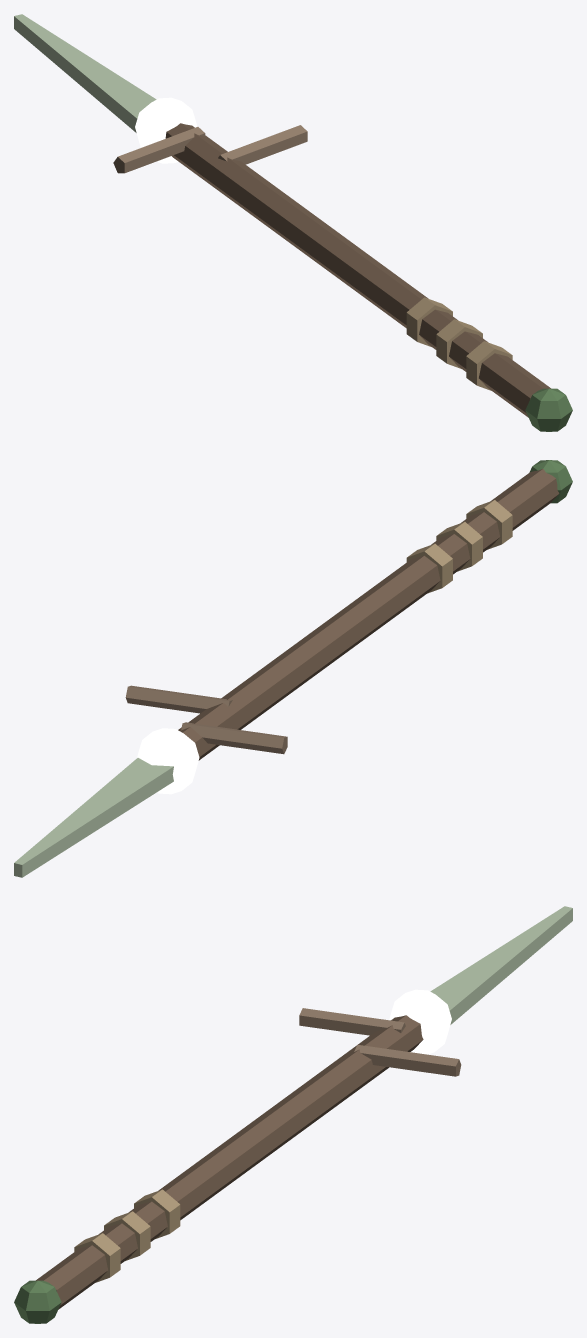
File: DF_SpiritBranch.fbx
The picture shows the model from 3 angles, top to bottom: view 1: azimuth 30°, elevation 25°; view 2: azimuth 150°, elevation 25°; view 3: azimuth 330°, elevation 25°; orthographic projection.
Parts seen in each view (by area): view 1: DF_SpiritBranch; view 2: DF_SpiritBranch; view 3: DF_SpiritBranch.
Part boxes in pixels (x1,y1,x2,y2): DF_SpiritBranch: (14, 14, 572, 431); DF_SpiritBranch: (14, 460, 572, 877); DF_SpiritBranch: (14, 906, 572, 1323).
Bounding box in the file's own units: 0.8354 × 0.28 × 4.55.
